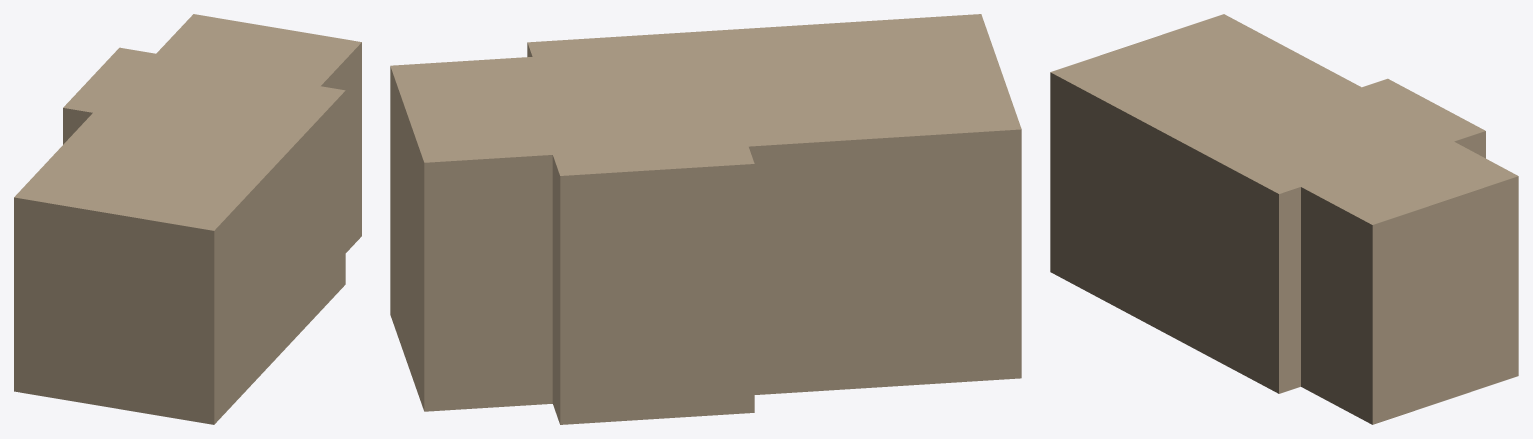
Rendered from bld_512403796.dae.
3 renders of one model, left to right at view 1: azimuth 30°, elevation 25°; view 2: azimuth 150°, elevation 25°; view 3: azimuth 270°, elevation 25°, orthographic. The views are drawn at different scales.
Parts seen in each view (by area): view 1: bld_512403796; view 2: bld_512403796; view 3: bld_512403796.
Part boxes in pixels (box(x1,y1,x2,y2)): bld_512403796: box(14, 14, 361, 424); bld_512403796: box(390, 14, 1021, 424); bld_512403796: box(1050, 14, 1518, 424).
Bounding box in the file's own units: 18.12 × 16.99 × 8.
